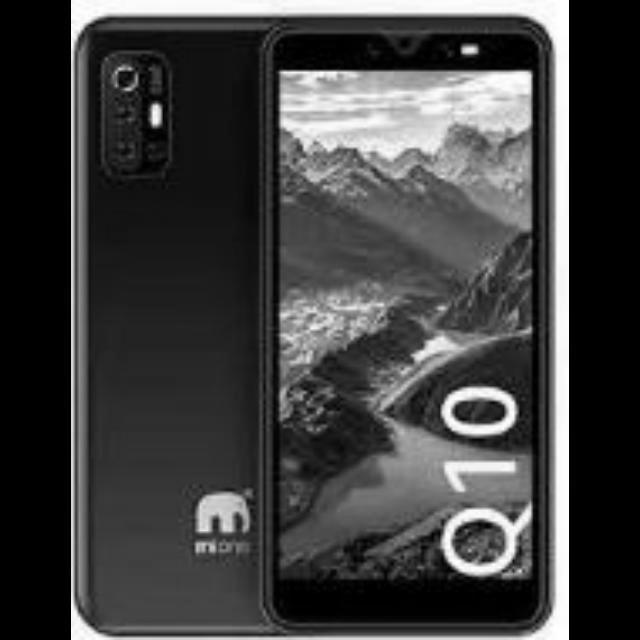fake: (260, 26, 552, 632)
